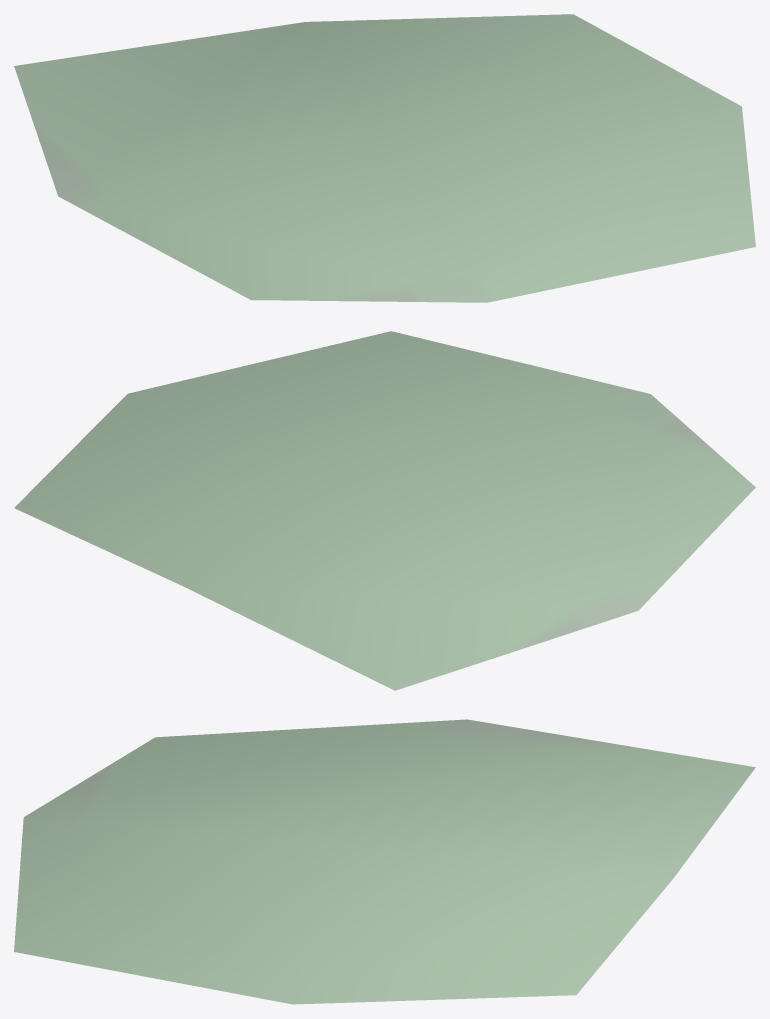
The model's file is TROLLHOLE02_HOLECAP18.fbx.
3 renders of one model, top to bottom at view 1: azimuth 30°, elevation 25°; view 2: azimuth 150°, elevation 25°; view 3: azimuth 270°, elevation 25°, orthographic.
Parts seen in each view (by area): view 1: TROLLHOLE02_HOLECAP18; view 2: TROLLHOLE02_HOLECAP18; view 3: TROLLHOLE02_HOLECAP18.
Boxes of the visible parts, x1,y1,x2,y2 form: TROLLHOLE02_HOLECAP18: [14, 14, 755, 302]; TROLLHOLE02_HOLECAP18: [14, 331, 755, 690]; TROLLHOLE02_HOLECAP18: [14, 719, 755, 1004].
Size of the model in its own units: 31594 by 730 by 33828.
1 material, 1 textured.
